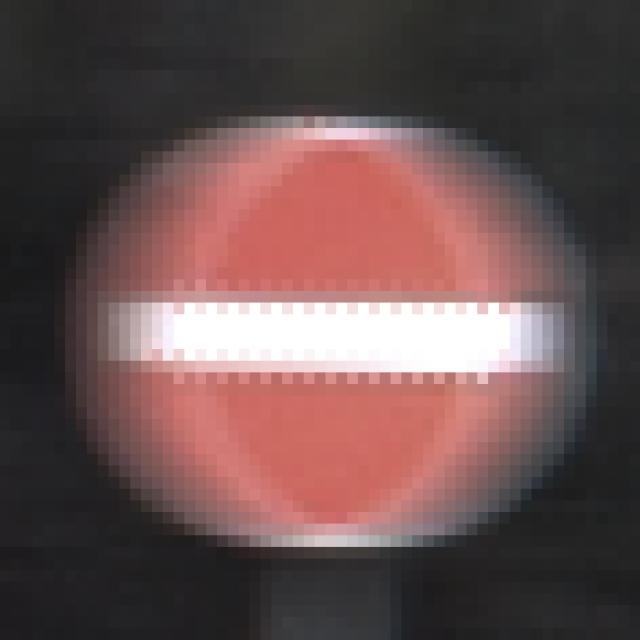No Entry: (55, 71, 587, 583)
